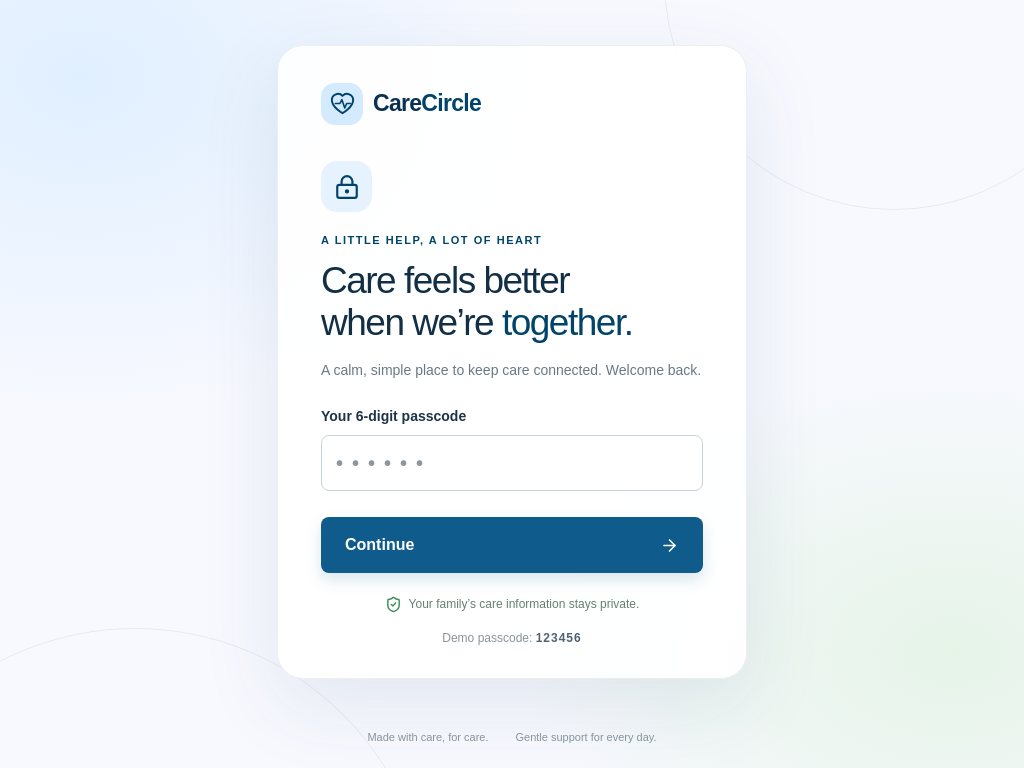
Scenario: passcode and role access › rejects malformed passcodes before checking the saved value
In the password field labelled "Your 6-digit passcode": (512, 463) [321, 435, 703, 491], type "12"
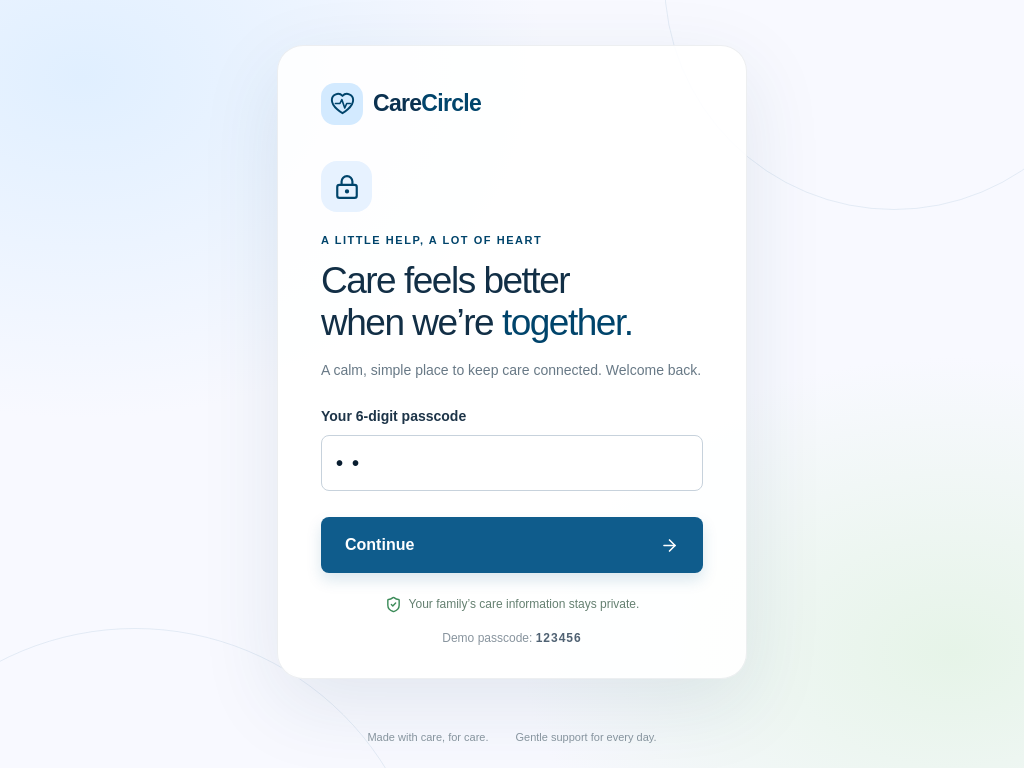
Submit the form labelled "Your 6-digit passcode", box [321, 406, 703, 573]
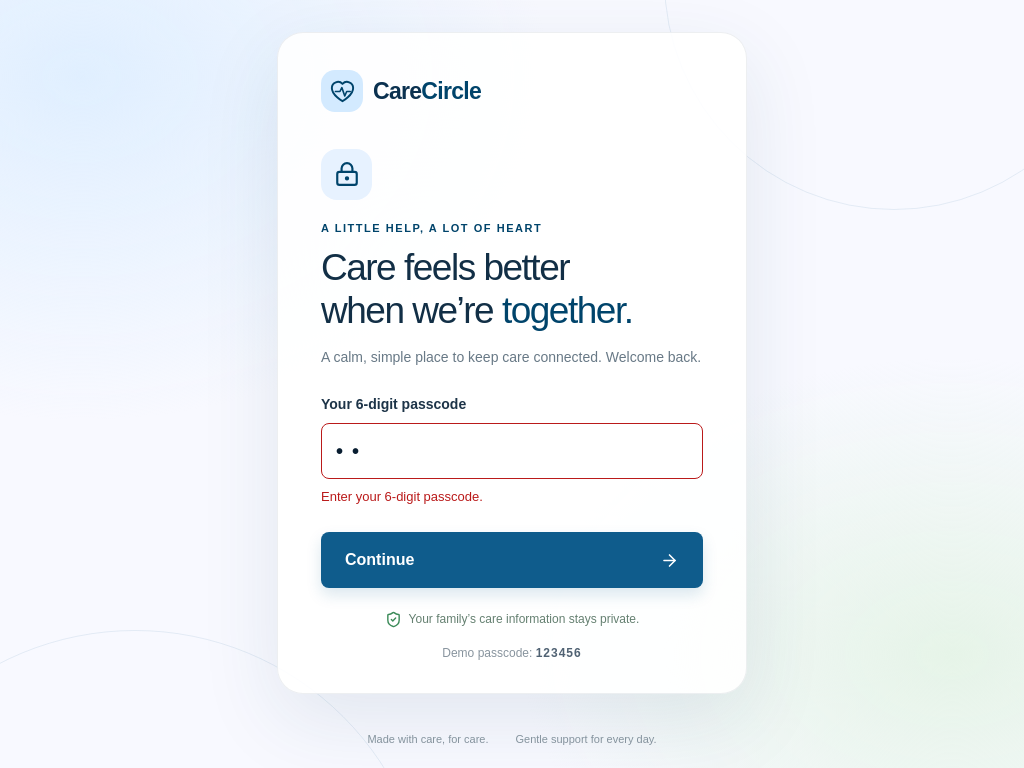
Expected: the text "Enter your 6-digit passcode." is shown, [321, 489, 483, 504]
